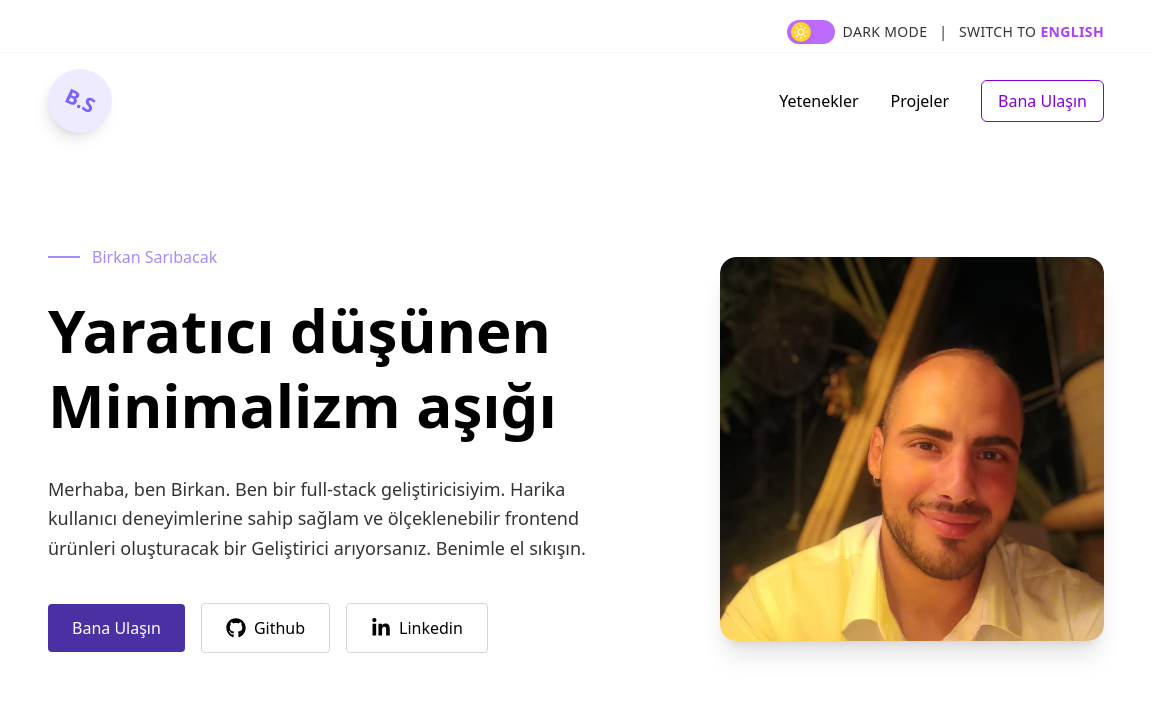
Test case: Header ve Uygulama Fonksiyonları Testi › Tema (Theme) değiştirme işlevini test eder
The image size is (1152, 720).
What coordinates should you click on to do the following:
click the 1st button
I would click on:
 (811, 32)
Its box is [787, 20, 835, 44].
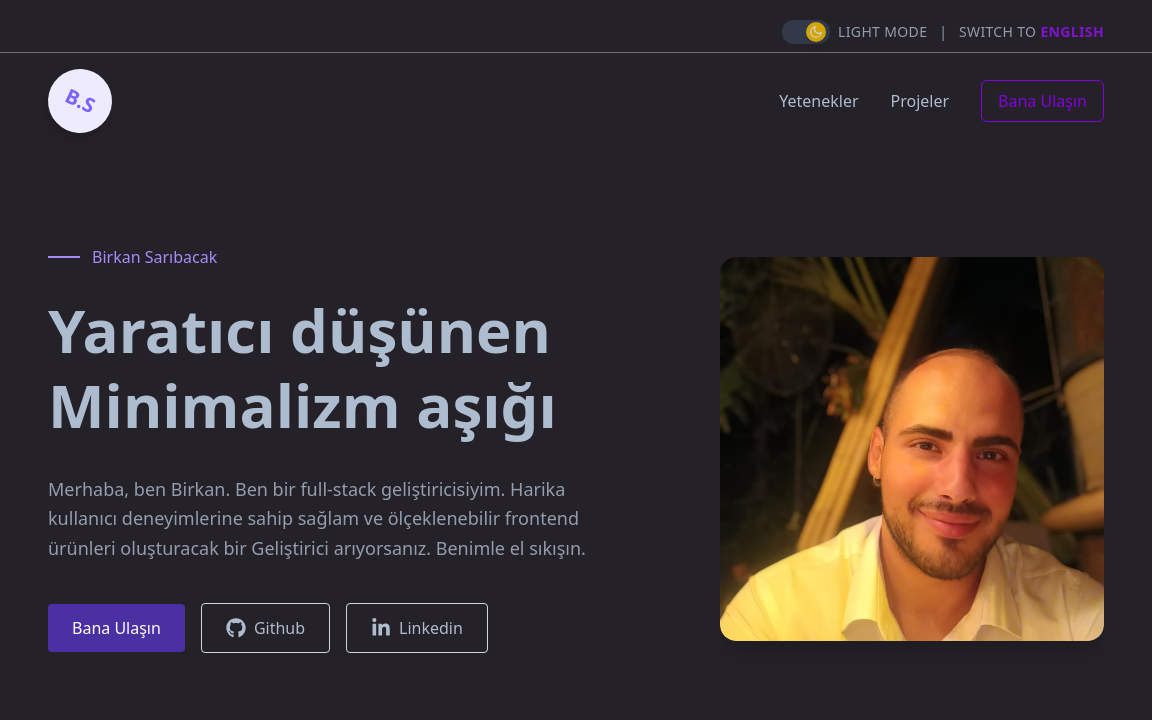
Now the text with class "uppercase" reads "Light Mode", box [838, 22, 927, 41]
What coordinates should you click on to do the following:
click the 1st button
I would click on:
 (806, 32)
Its box is [782, 20, 830, 44].
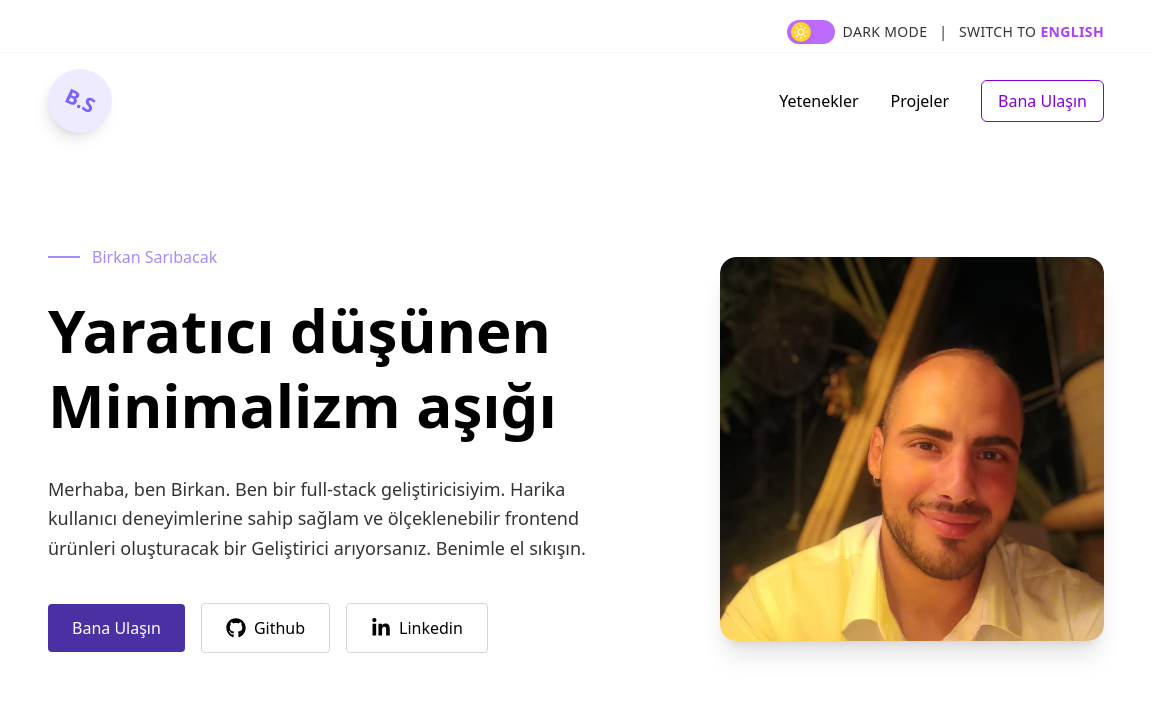
Now the text with class "uppercase" reads "Dark Mode", box [843, 22, 928, 41]
